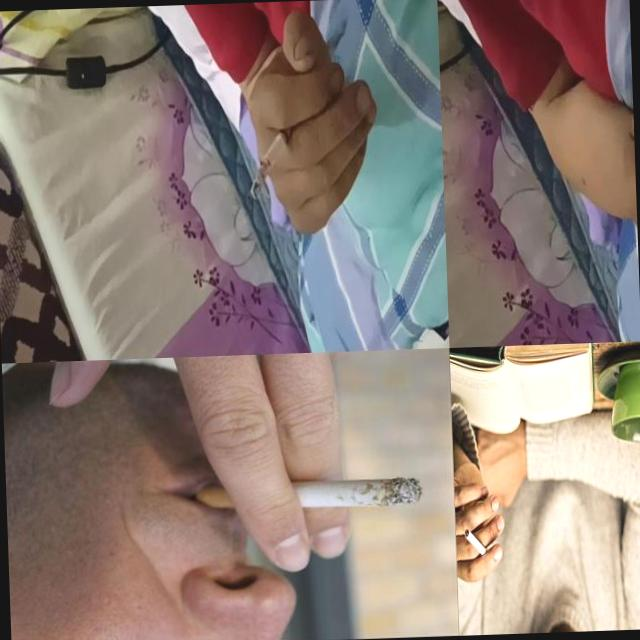cigarette: (194, 474, 424, 514), (246, 116, 296, 198), (464, 526, 489, 562)
